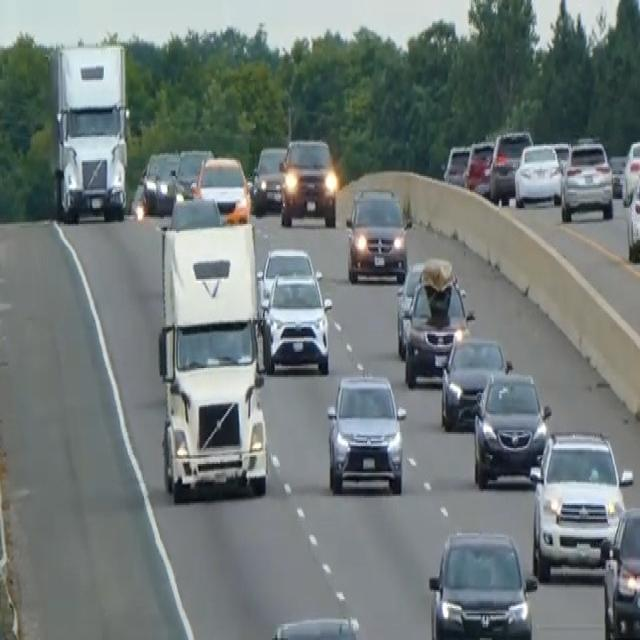car: (529, 427, 633, 581), (427, 526, 537, 638), (325, 370, 406, 496), (472, 366, 551, 487), (403, 256, 473, 388), (260, 269, 332, 375), (439, 329, 511, 430), (344, 183, 408, 283), (278, 135, 337, 228), (599, 505, 639, 638), (560, 137, 614, 222), (256, 243, 319, 314), (192, 153, 251, 224), (488, 128, 533, 203), (513, 140, 562, 208), (394, 260, 425, 358), (139, 148, 180, 215), (250, 142, 287, 212), (267, 614, 362, 638), (173, 146, 213, 199), (167, 194, 223, 231), (462, 137, 494, 194), (624, 169, 639, 261), (442, 142, 470, 187), (621, 137, 639, 204)
lorry: (157, 219, 269, 501), (46, 41, 130, 222)
